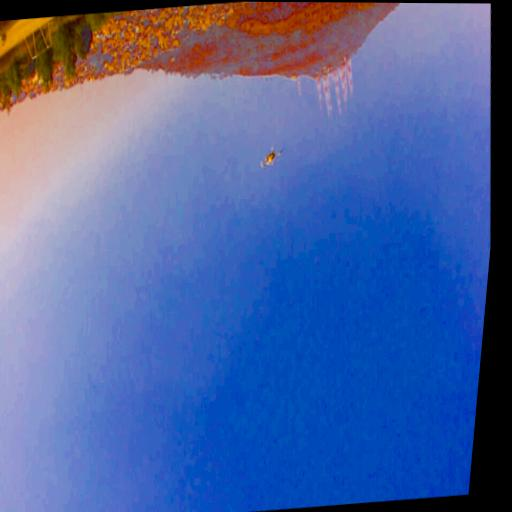drones: (257, 146, 286, 172)
